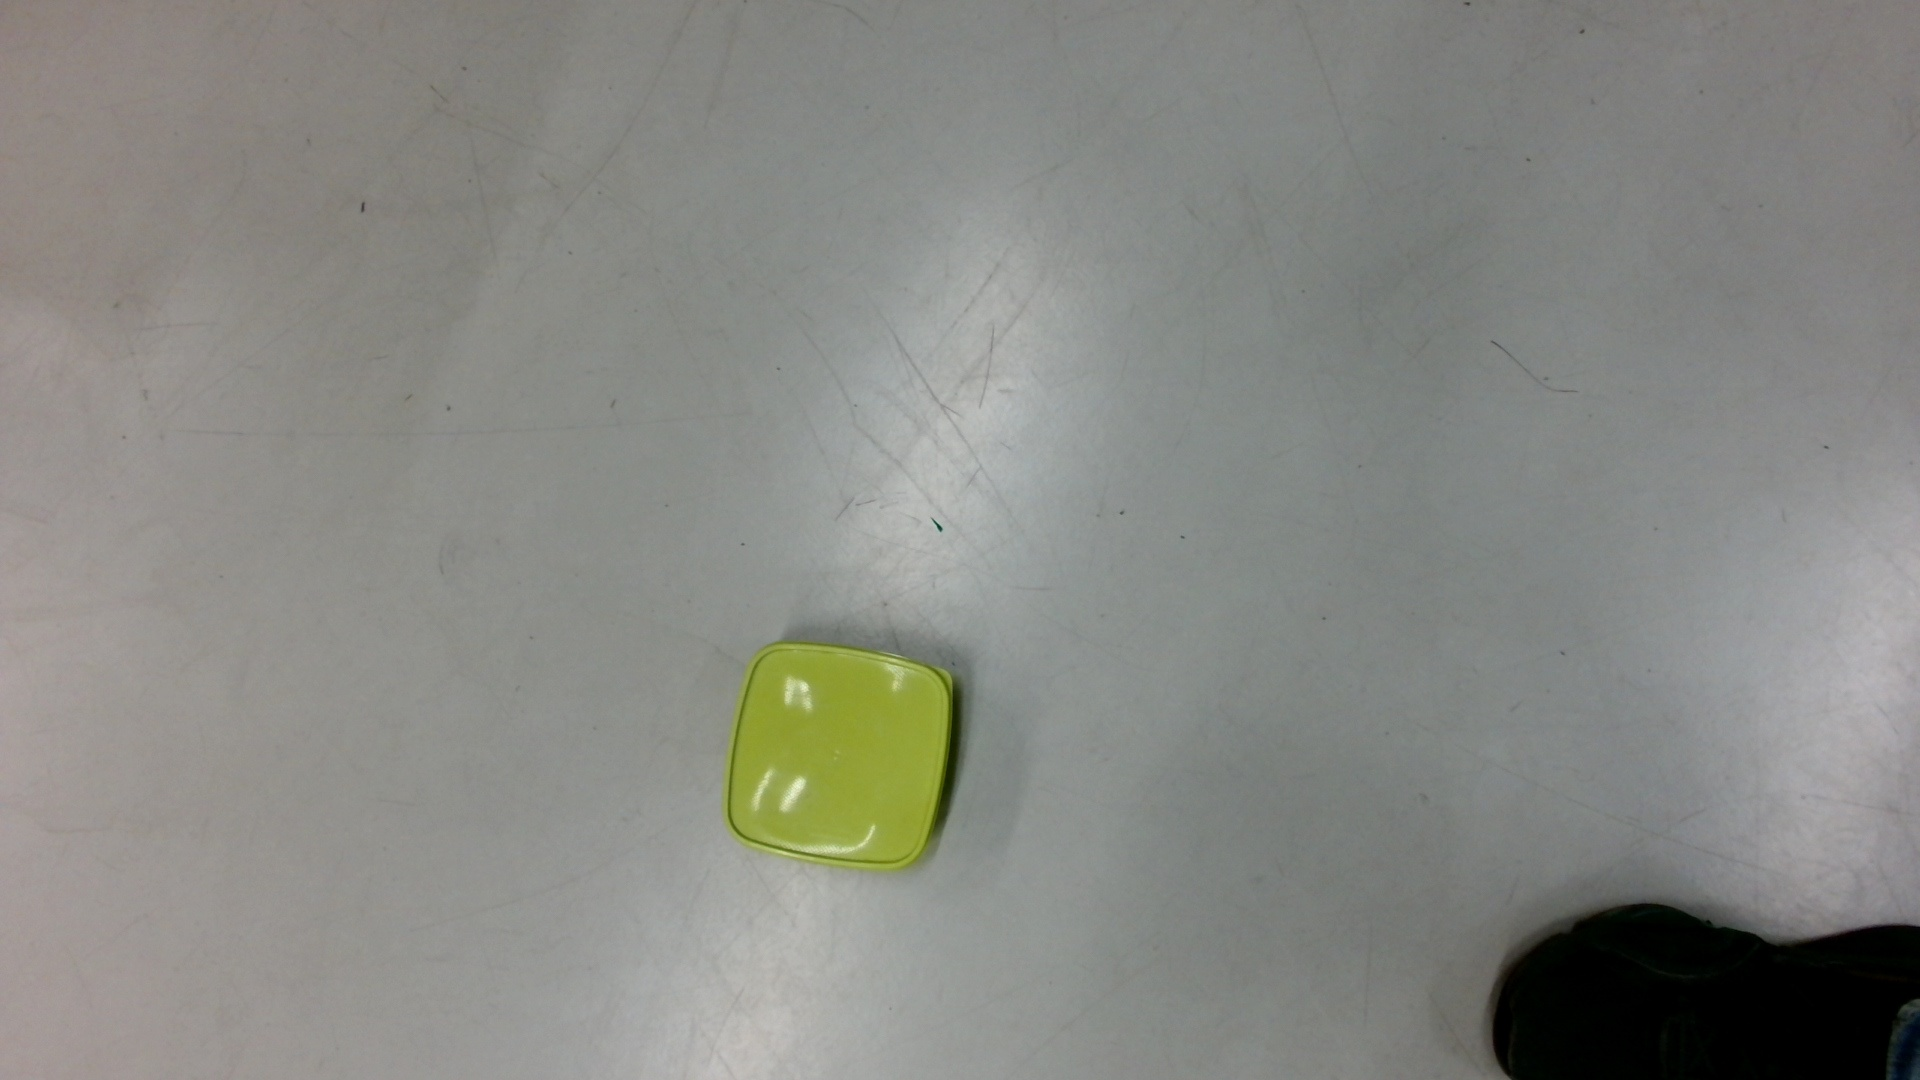Box: (719, 638, 963, 876)
